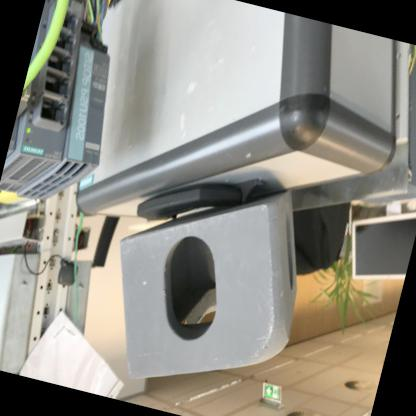CornerCasting: (86, 149, 331, 415)
